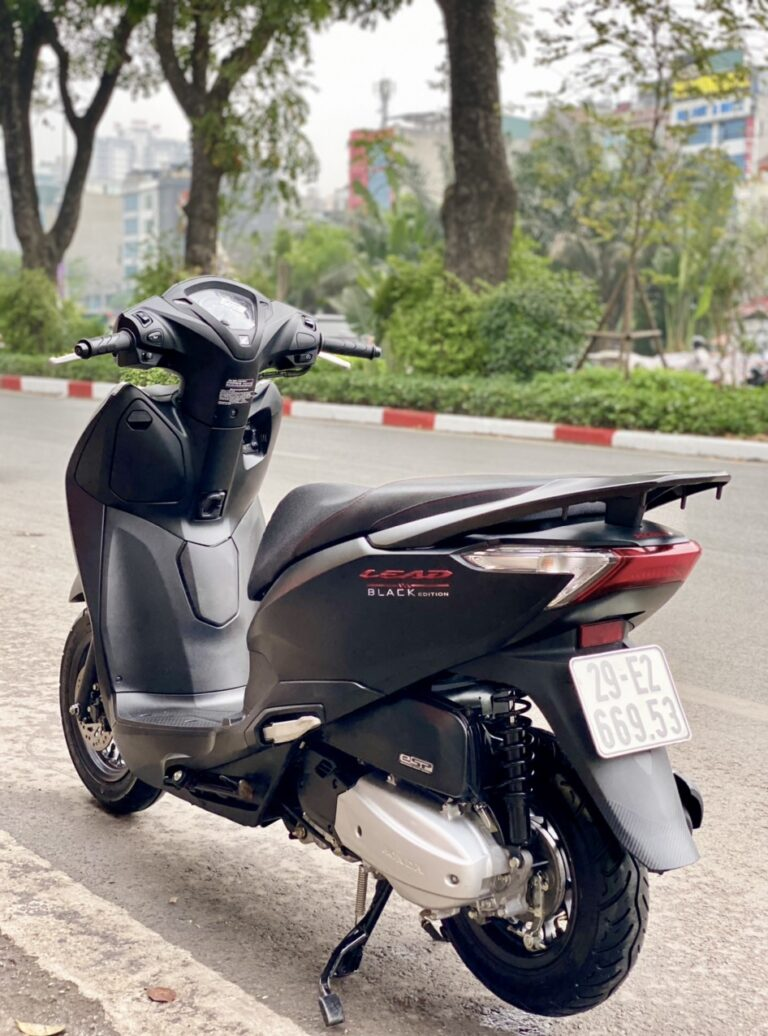bien_so: (563, 637, 699, 767)
